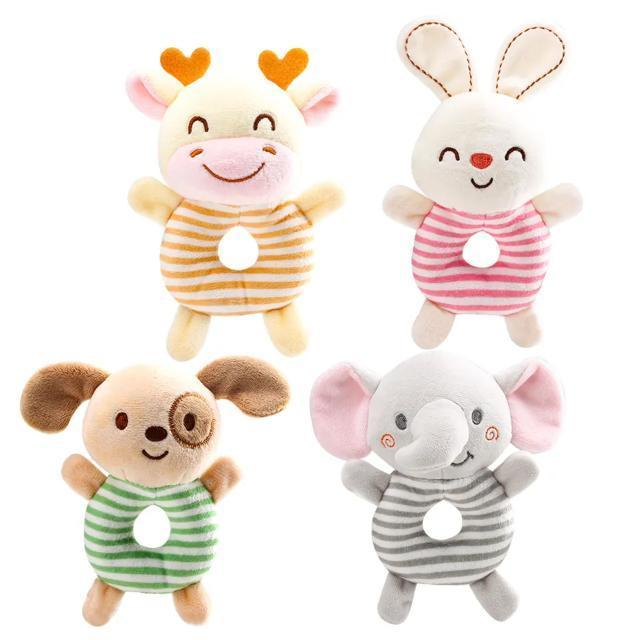soft-toy: (22, 359, 289, 625), (312, 352, 562, 624), (130, 49, 344, 360), (385, 22, 582, 349)
